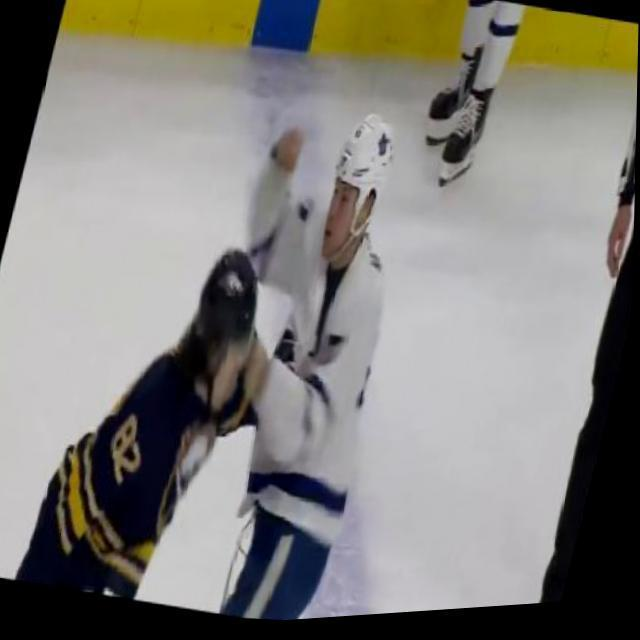fight: (20, 51, 446, 638)
